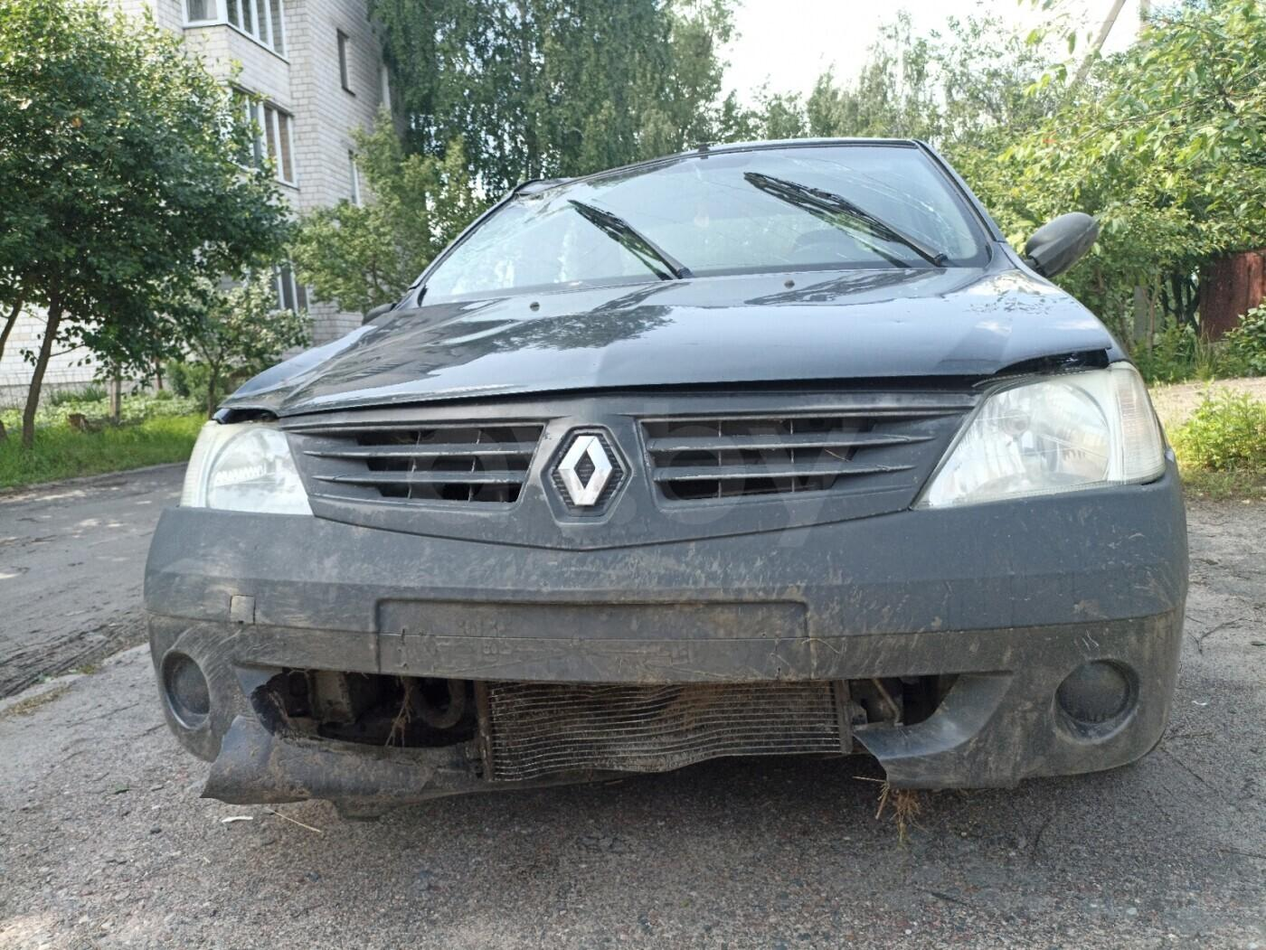Logan_2004-2009: (141, 134, 1188, 826)
